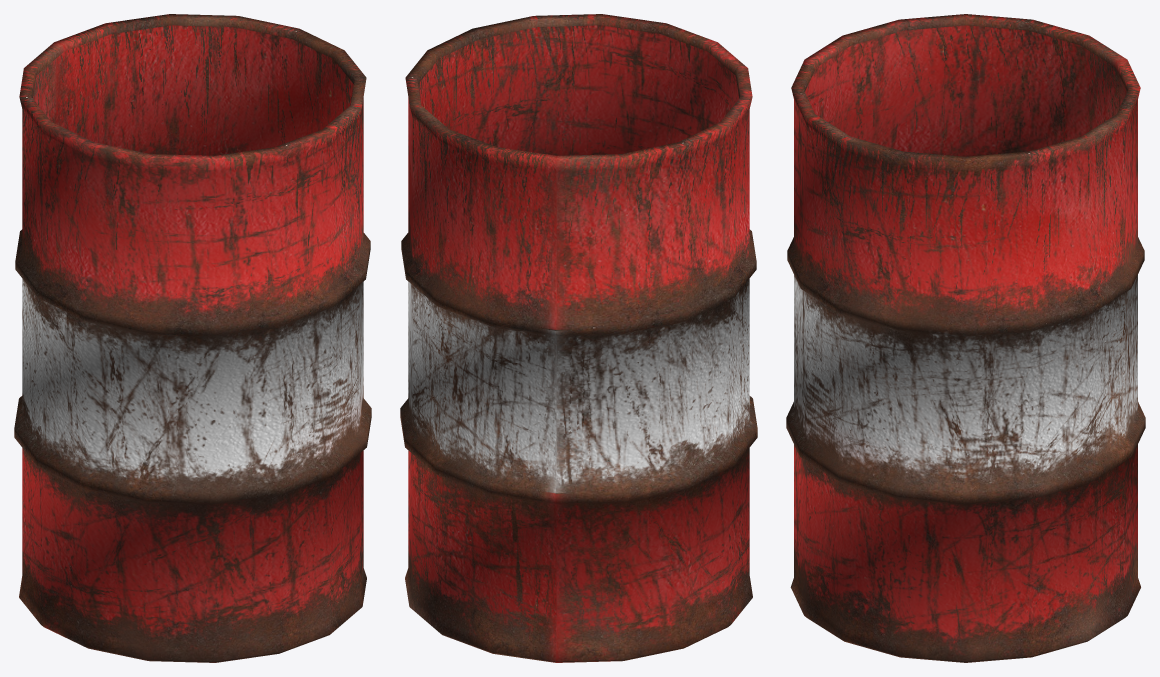
File: MetalBarrelLP.fbx
3 renders of one model, left to right at view 1: azimuth 30°, elevation 25°; view 2: azimuth 150°, elevation 25°; view 3: azimuth 270°, elevation 25°, orthographic.
Visible parts, largest first — view 1: Cylinder; view 2: Cylinder; view 3: Cylinder.
Boxes of the visible parts, bbox=[...] form: Cylinder: bbox=[14, 14, 371, 662]; Cylinder: bbox=[400, 14, 757, 662]; Cylinder: bbox=[786, 14, 1145, 662].
Bounding box in the file's own units: 3.08 × 4.75 × 3.08.
